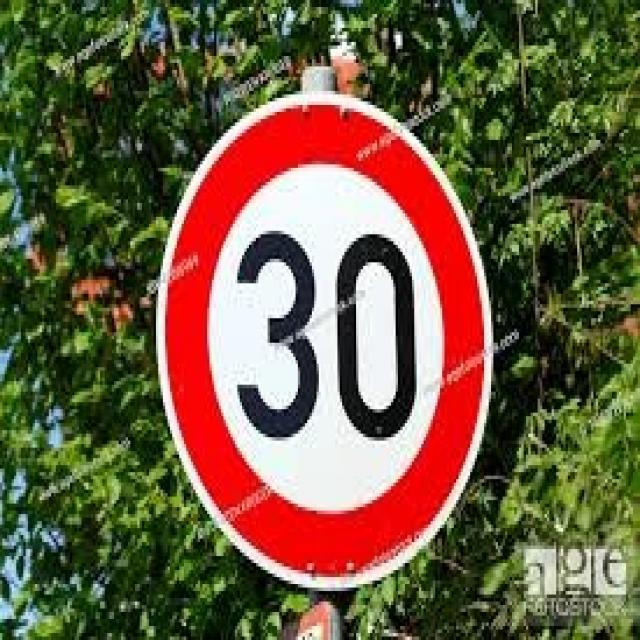speed_limit_30: (146, 82, 502, 588)
